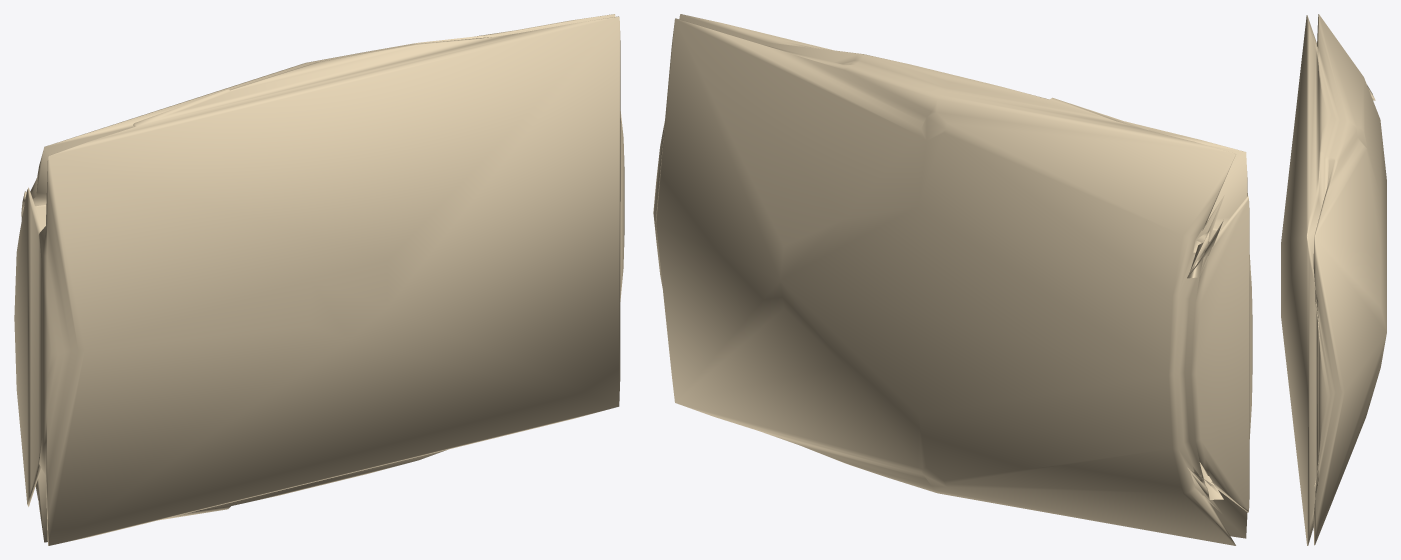
The model's file is block_main_tidemark.glb.
3 renders of one model, left to right at view 1: azimuth 30°, elevation 25°; view 2: azimuth 150°, elevation 25°; view 3: azimuth 270°, elevation 25°, orthographic. The views are drawn at different scales.
Parts seen in each view (by area): view 1: block_main_tidemark; view 2: block_main_tidemark; view 3: block_main_tidemark.
Boxes of the visible parts, x1,y1,x2,y2 form: block_main_tidemark: (14, 14, 624, 545); block_main_tidemark: (653, 14, 1252, 545); block_main_tidemark: (1281, 14, 1386, 545).
Bounding box in the file's own units: 5.95 × 4 × 1.15.
